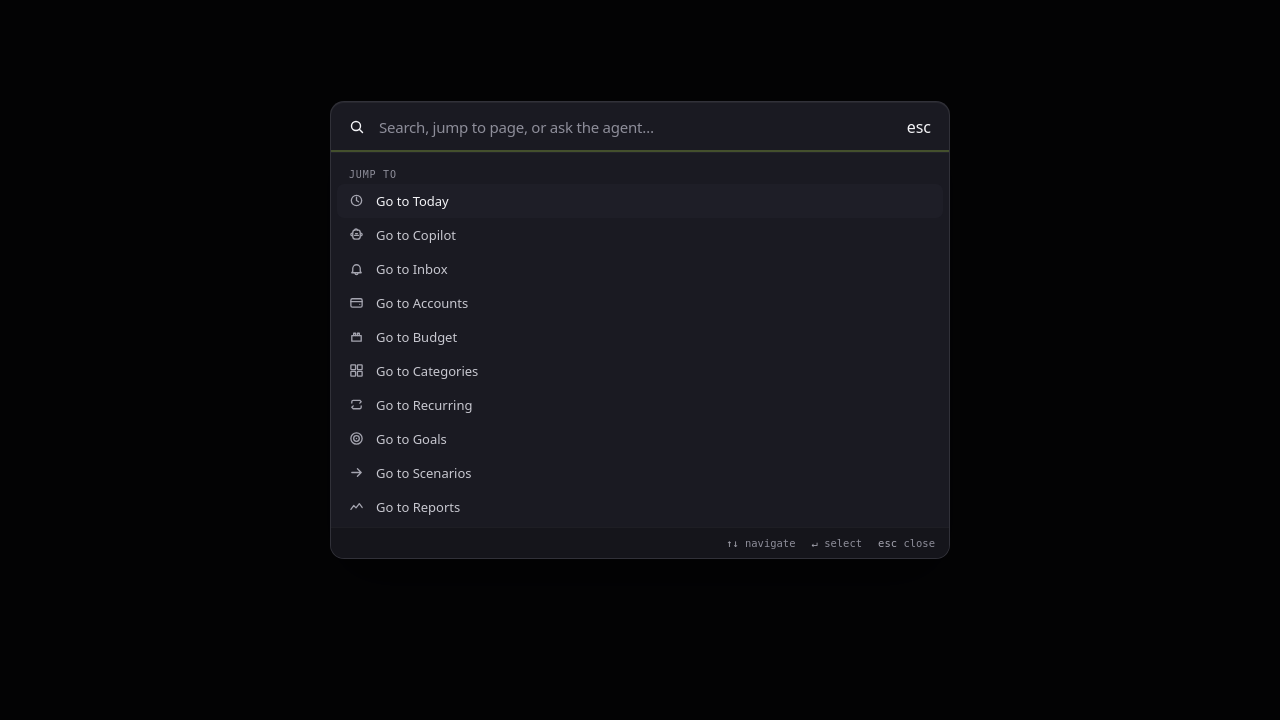
CommandPalette — Ask the agent mode › shows 'Ask the agent' section when query is typed
Type "am I over budget?" into the dropdown at (636, 127), box x1=377 y1=116 x2=895 y2=138
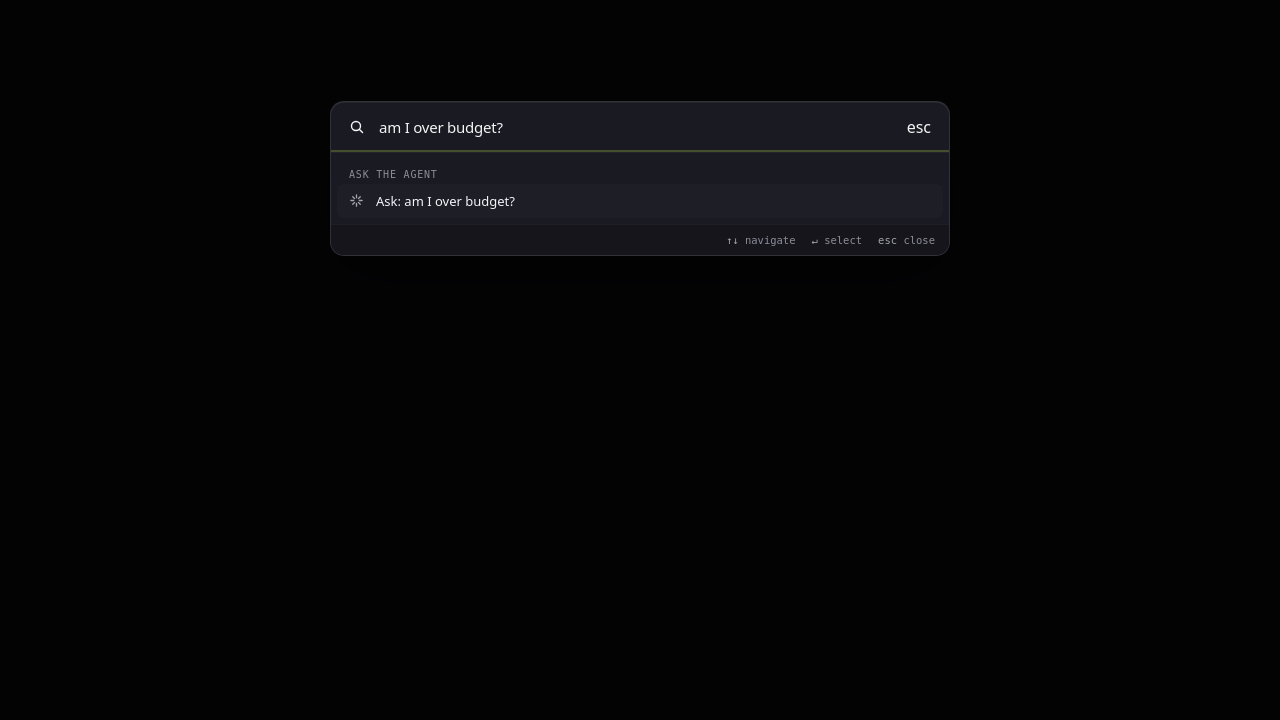
Expected: the text "Ask the agent" is shown, x1=349 y1=169 x2=438 y2=180
Expected: the text "Ask: am I over budget?" is shown, x1=376 y1=192 x2=515 y2=210
